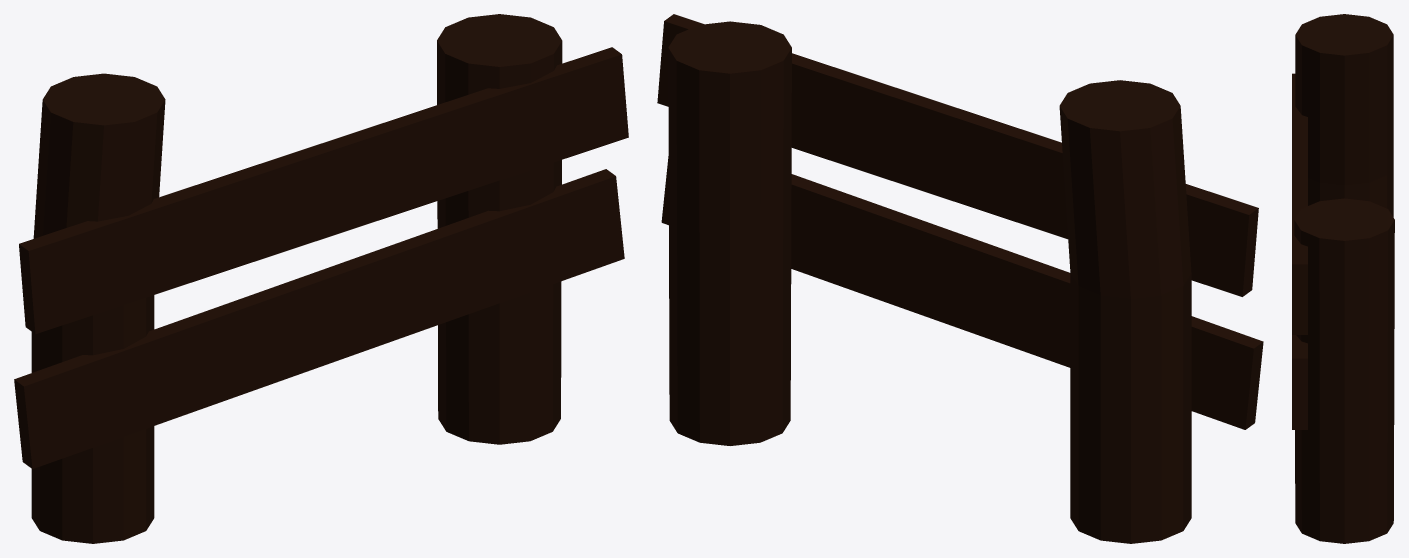
Rendered from Fence2.FBX.
3 views of the same model, side by side, from view 1: azimuth 30°, elevation 25°; view 2: azimuth 150°, elevation 25°; view 3: azimuth 270°, elevation 25° (orthographic). The views are drawn at different scales.
Parts seen in each view (by area): view 1: Cylinder003, Box005, Box006; view 2: Cylinder003, Box006, Box005; view 3: Cylinder003, Box006, Box005.
Boxes of the visible parts, x1,y1,x2,y2 form: Cylinder003: [31, 14, 562, 543]; Box005: [14, 169, 624, 468]; Box006: [19, 47, 628, 334]; Cylinder003: [668, 21, 1191, 543]; Box006: [657, 14, 1258, 296]; Box005: [661, 156, 1263, 429]; Cylinder003: [1294, 14, 1394, 543]; Box006: [1292, 73, 1307, 334]; Box005: [1292, 335, 1307, 429].
Bounding box in the file's own units: 30.52 × 20.05 × 5.6.
